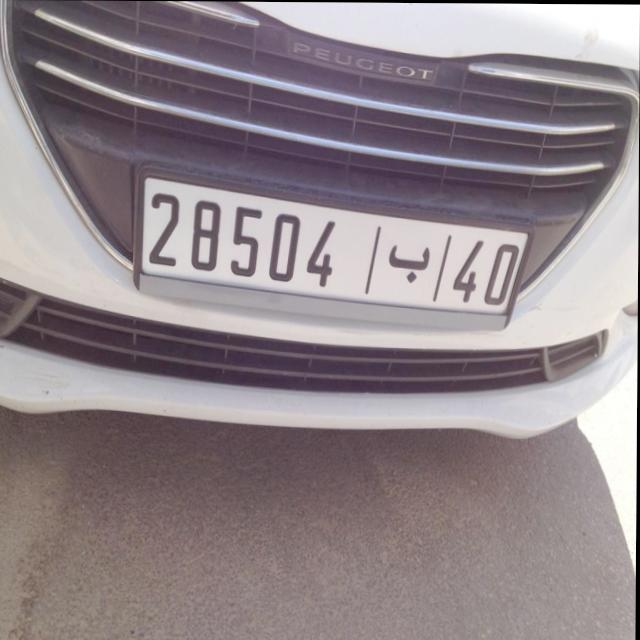License-Plate: (144, 179, 529, 315)
